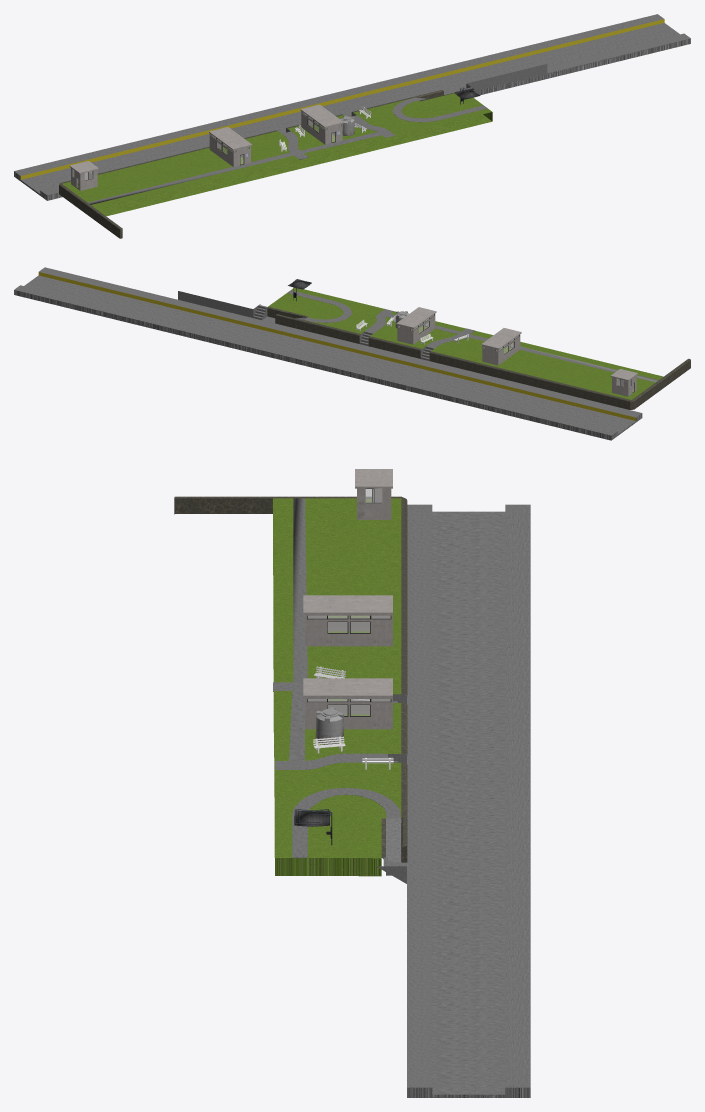
Rendered from Salones_.glb.
3 renders of one model, top to bottom at view 1: azimuth 30°, elevation 25°; view 2: azimuth 150°, elevation 25°; view 3: azimuth 270°, elevation 25°, orthographic. The views are drawn at different scales.
Visible parts, largest first — view 1: Calle, Cesped_PB, Caseta, Paredes_PB.003; view 2: Calle, Cesped_PB, Paredes_PB.003, Caseta; view 3: Calle, Cesped_PB, Caseta, Paredes_PB.003, Ventanas.
Part boxes in pixels (bbox=[...]): Calle: bbox=[14, 14, 690, 204]; Cesped_PB: bbox=[62, 93, 492, 216]; Caseta: bbox=[69, 104, 343, 190]; Paredes_PB.003: bbox=[59, 90, 453, 238]; Calle: bbox=[14, 267, 658, 440]; Cesped_PB: bbox=[268, 287, 663, 399]; Paredes_PB.003: bbox=[267, 306, 690, 409]; Caseta: bbox=[396, 307, 637, 396]; Calle: bbox=[273, 498, 530, 1097]; Cesped_PB: bbox=[273, 498, 401, 876]; Caseta: bbox=[303, 469, 392, 729]; Paredes_PB.003: bbox=[174, 496, 407, 862]; Ventanas: bbox=[308, 615, 390, 715].
Size of the model in its own units: 1.3 by 0.065 by 0.3359.
14 materials, 10 textured.
